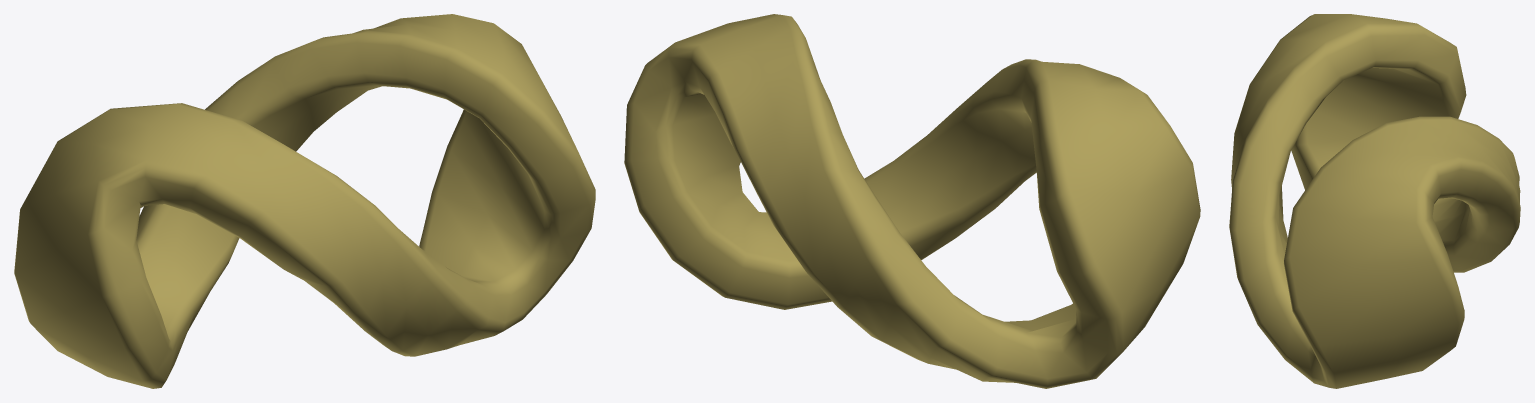
Rendered from geo_item_DNA.fbx.
The picture shows the model from 3 angles, left to right: view 1: azimuth 30°, elevation 25°; view 2: azimuth 150°, elevation 25°; view 3: azimuth 270°, elevation 25°; orthographic projection. The views are drawn at different scales.
Parts seen in each view (by area): view 1: ItemADN; view 2: ItemADN; view 3: ItemADN.
Part boxes in pixels (x1,y1,x2,y2): ItemADN: [14, 14, 595, 388]; ItemADN: [624, 14, 1200, 388]; ItemADN: [1229, 14, 1520, 388].
Size of the model in its own units: 243 by 132 by 143.
